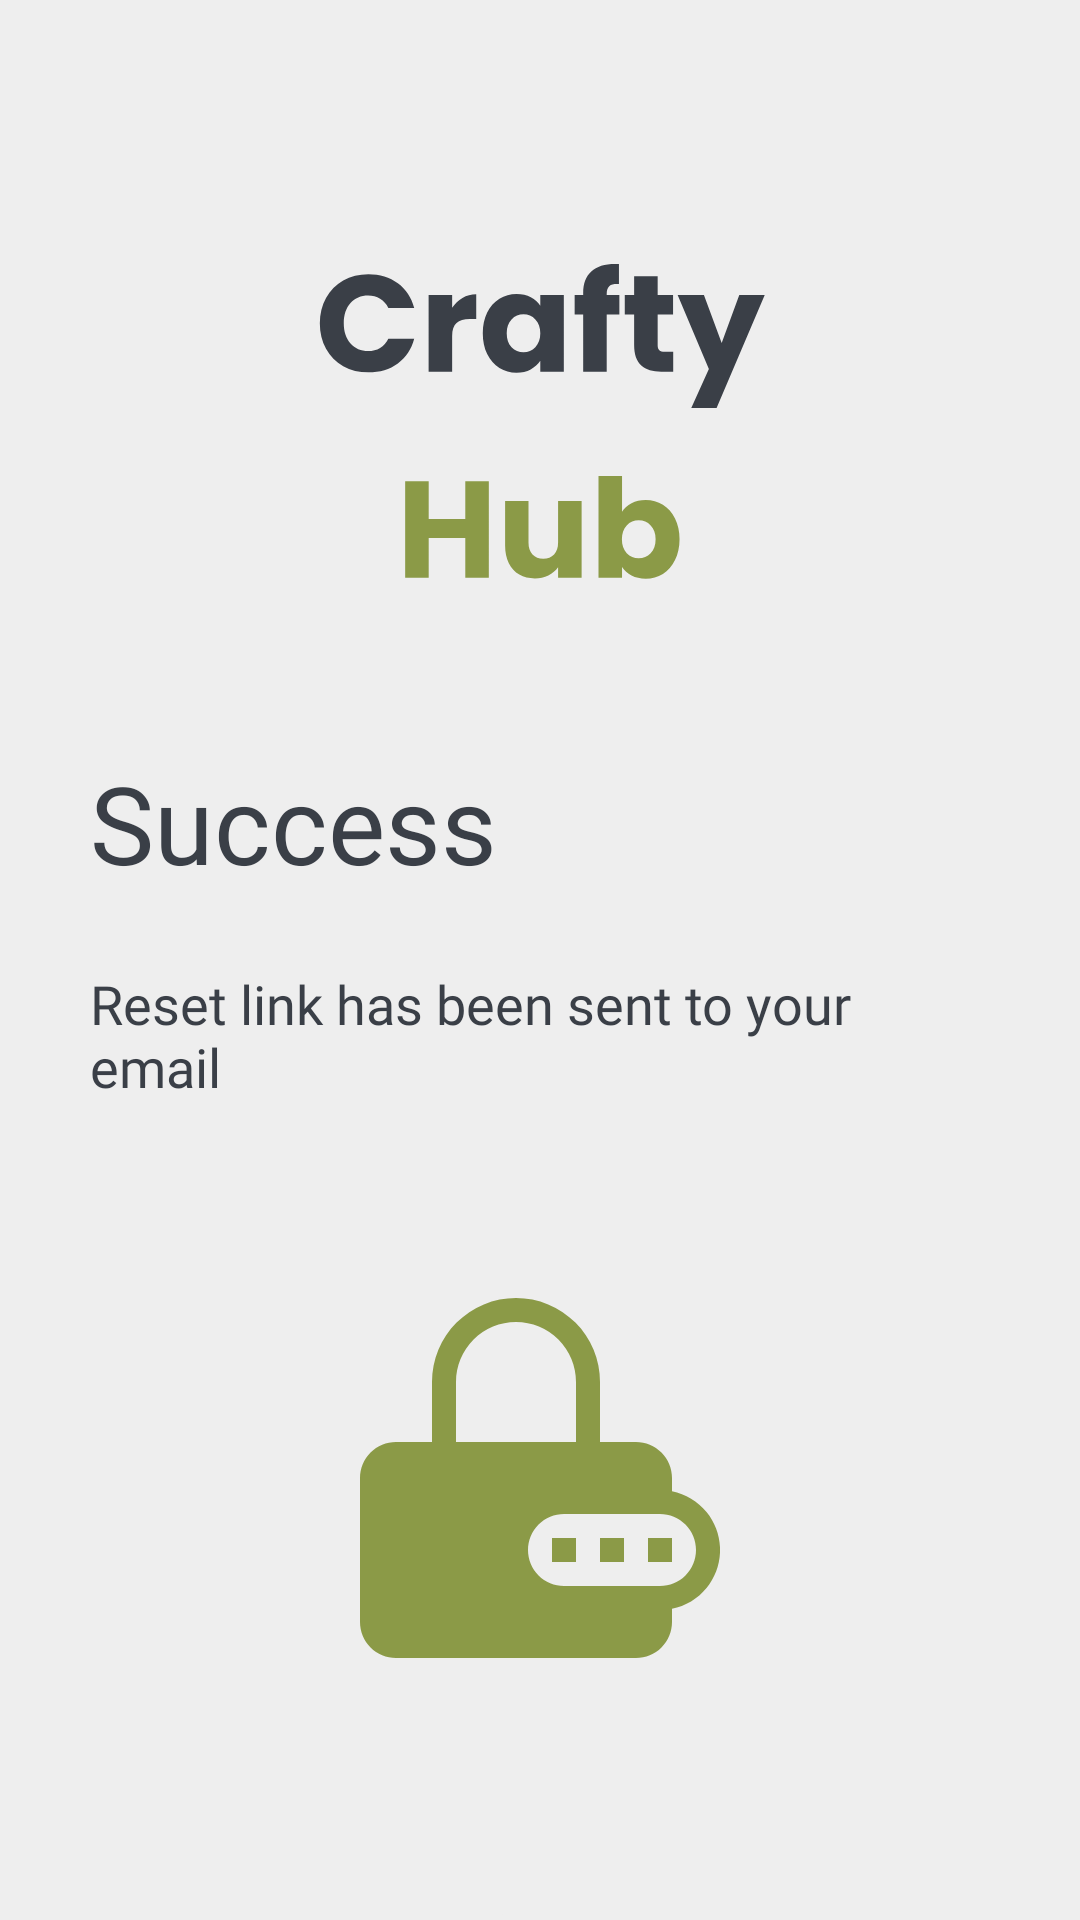

Icons on this 1080x1920 Android screen, each with the point to tap as (x,y):
success forgot password icon: (540,1478)
